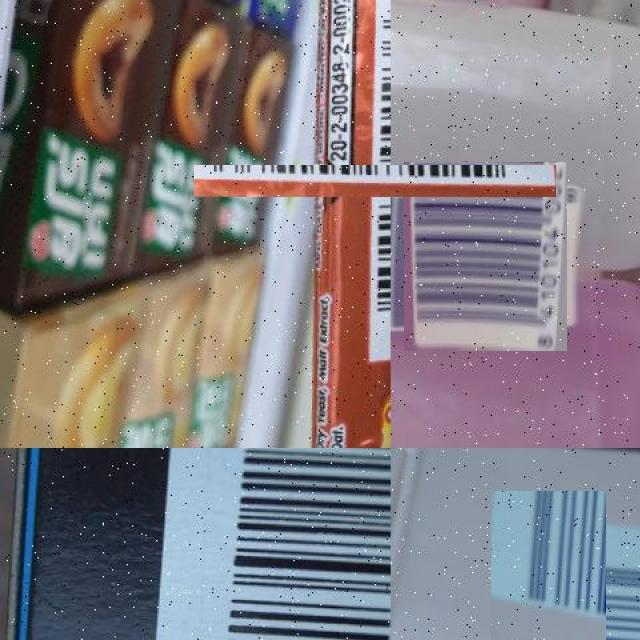Barcode: (148, 448, 391, 640), (276, 82, 473, 280), (397, 168, 574, 345), (474, 508, 623, 640)
